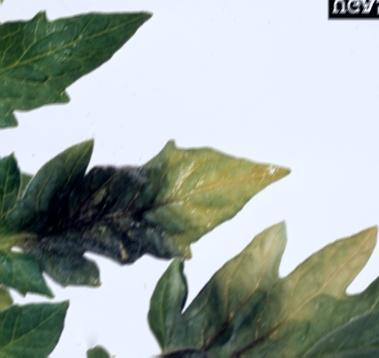Tomato leaf late blight: (0, 131, 295, 291), (147, 225, 379, 358), (0, 6, 166, 154)
